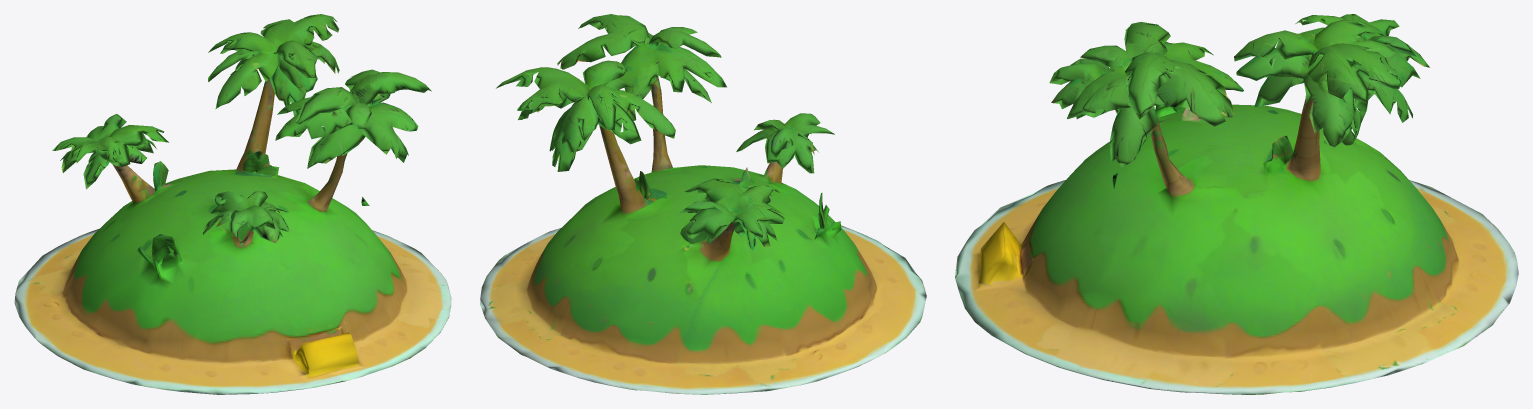
File: island.glb
3 views of the same model, side by side, from view 1: azimuth 30°, elevation 25°; view 2: azimuth 150°, elevation 25°; view 3: azimuth 270°, elevation 25° (orthographic). The views are drawn at different scales.
Size of the model in its own units: 1.95 by 1.14 by 1.95.
1 material, 1 textured.
